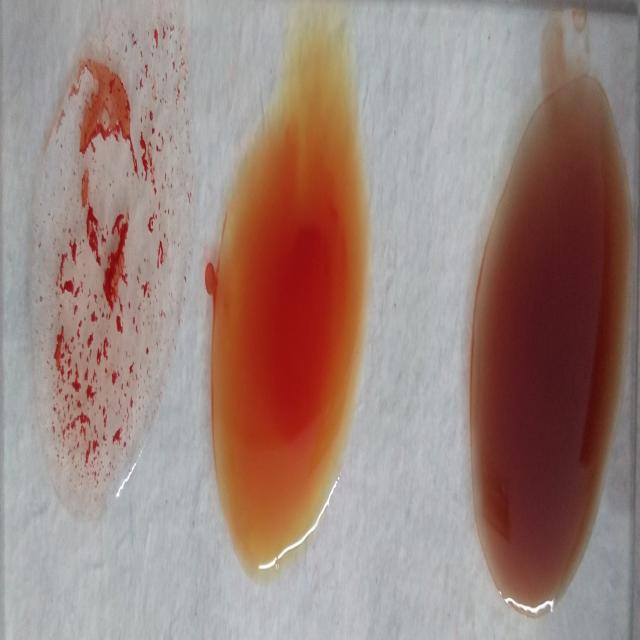D: (29, 24, 182, 497)
